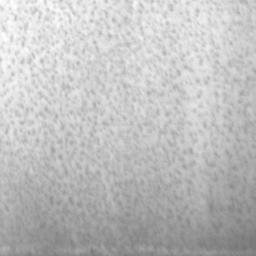Pitted surface: (0, 0, 238, 190), (196, 77, 209, 98), (233, 0, 248, 14), (80, 249, 101, 256)
